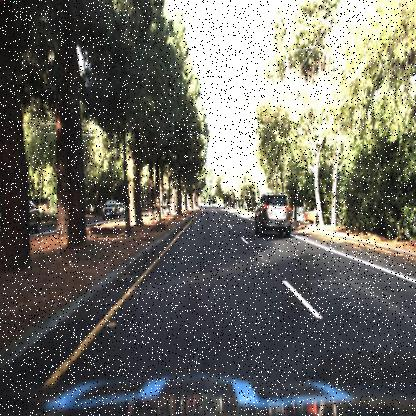car: (254, 191, 290, 237), (15, 198, 43, 237), (101, 195, 122, 224)
